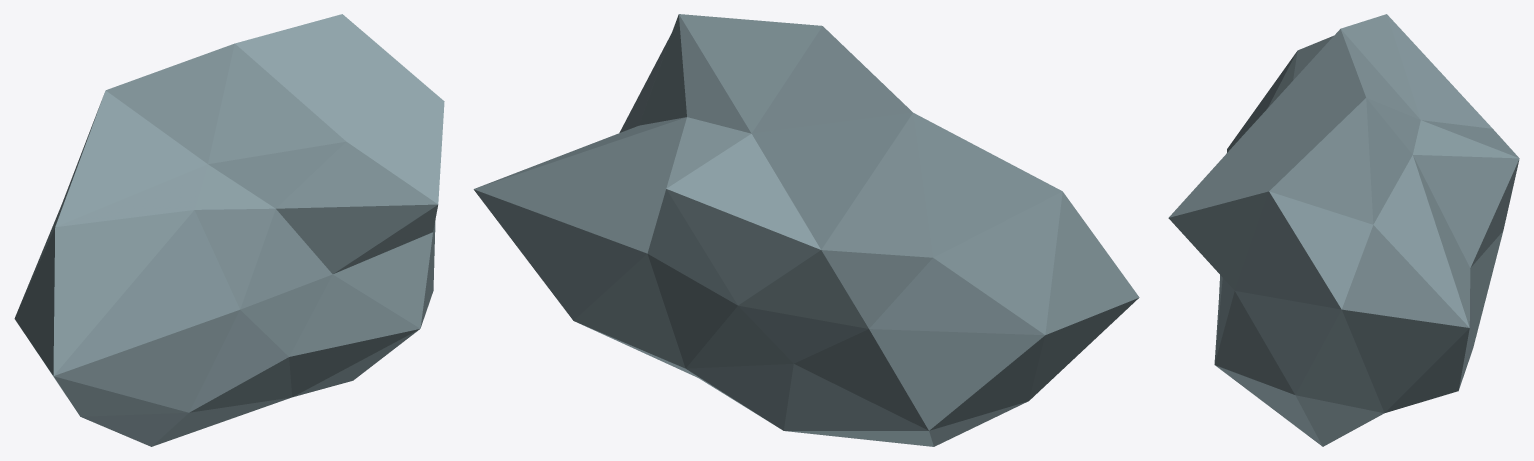
Rendered from RiversideRocks1.glb.
3 views of the same model, side by side, from view 1: azimuth 30°, elevation 25°; view 2: azimuth 150°, elevation 25°; view 3: azimuth 270°, elevation 25° (orthographic). The views are drawn at different scales.
Visible parts, largest first — view 1: RiverBoulder; view 2: RiverBoulder; view 3: RiverBoulder.
Boxes of the visible parts, x1,y1,x2,y2 form: RiverBoulder: (14, 14, 444, 446); RiverBoulder: (473, 14, 1139, 446); RiverBoulder: (1168, 14, 1519, 446).
Size of the model in its own units: 1.16 by 0.8342 by 0.6988.
